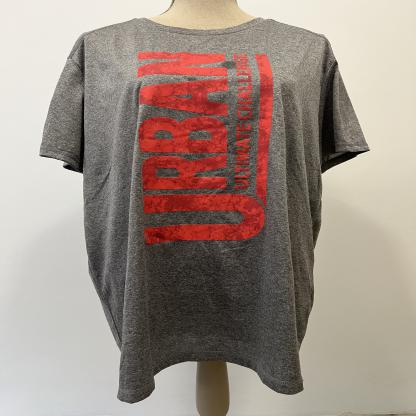stain: (215, 58, 243, 71), (183, 74, 199, 84)
